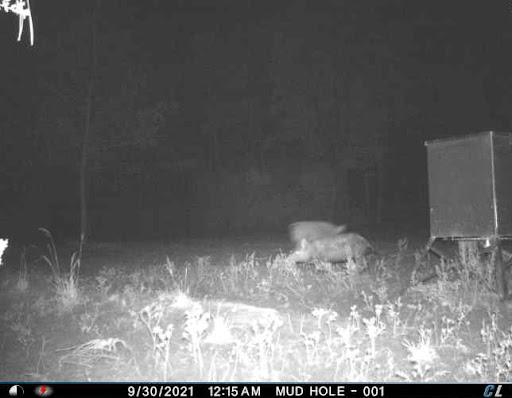Hog: (286, 212, 383, 279)
